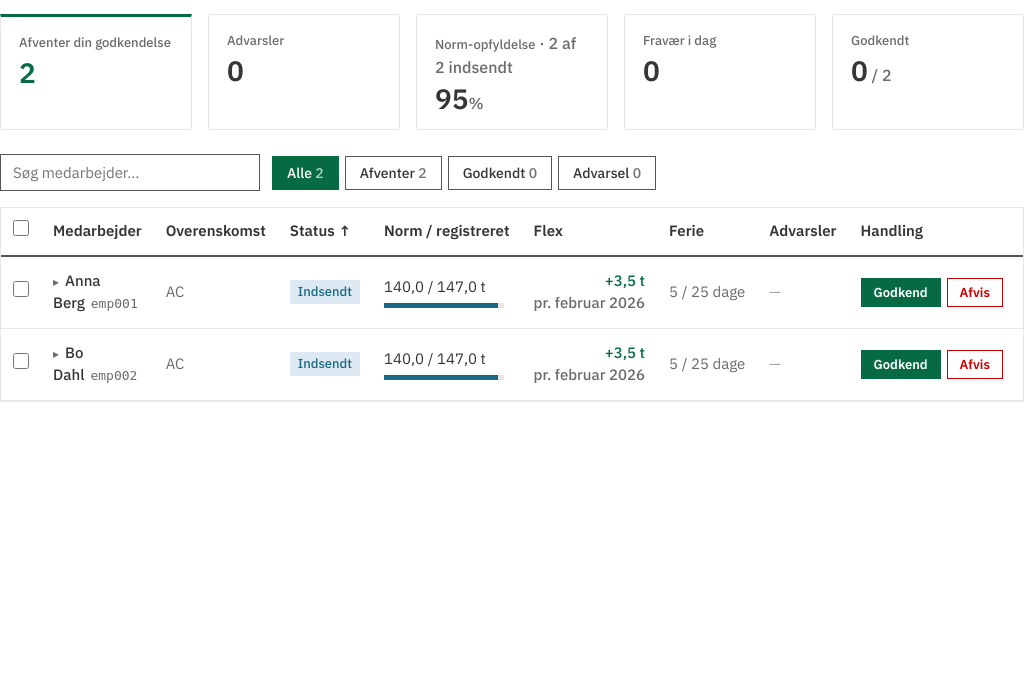
Scenario: TeamRowDetail — accordion expand/collapse › opening one row collapses another (accordion)
Check: the text "Bo Dahl" is shown, box [53,342,84,384]
Click the button named "detaljer for Anna Berg" at (59, 281), box [53,274,65,288]
(page scrolled)
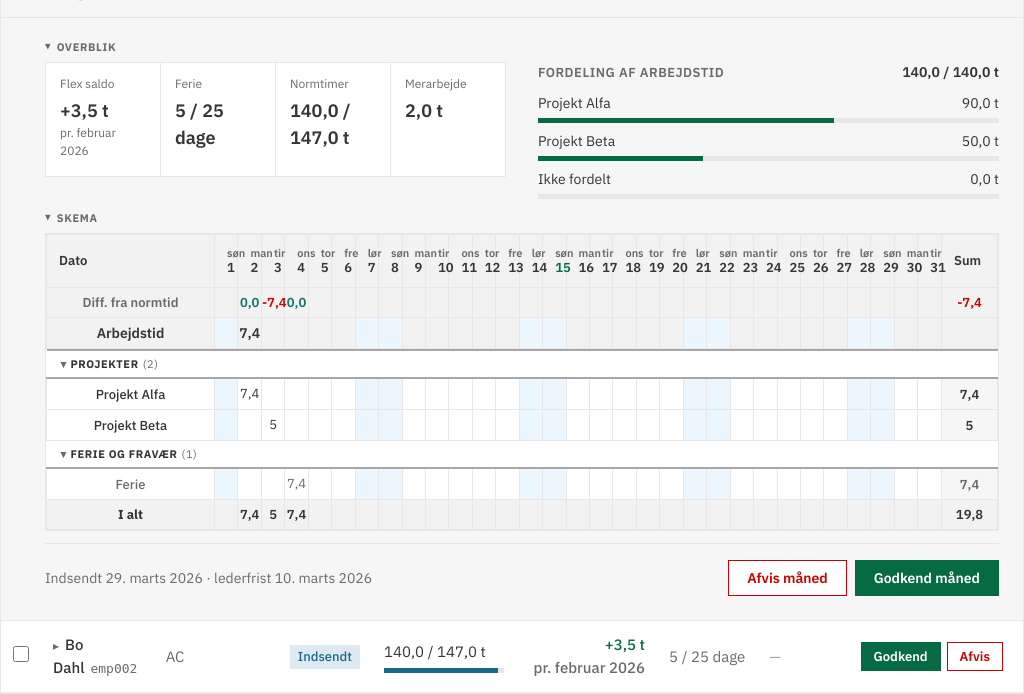
Check: the row with test id "team-detail-row-emp001" is shown
Click the button named "detaljer for Bo Dahl" at (59, 646), box [53,639,65,653]
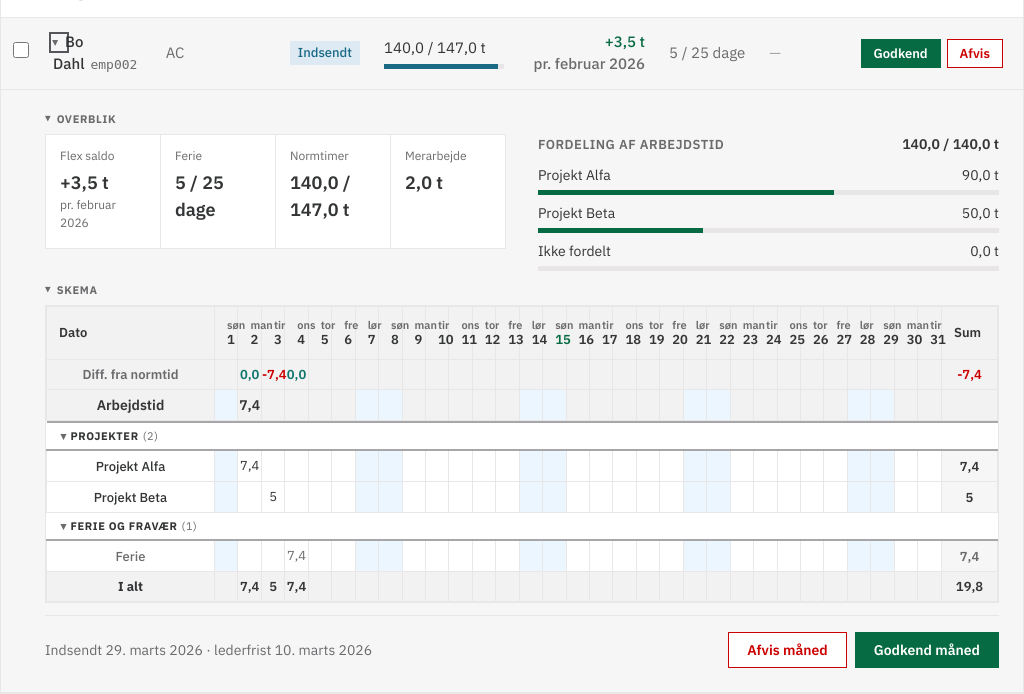
Check: the row with test id "team-detail-row-emp002" is shown
Check: the row with test id "team-detail-row-emp001" is gone
